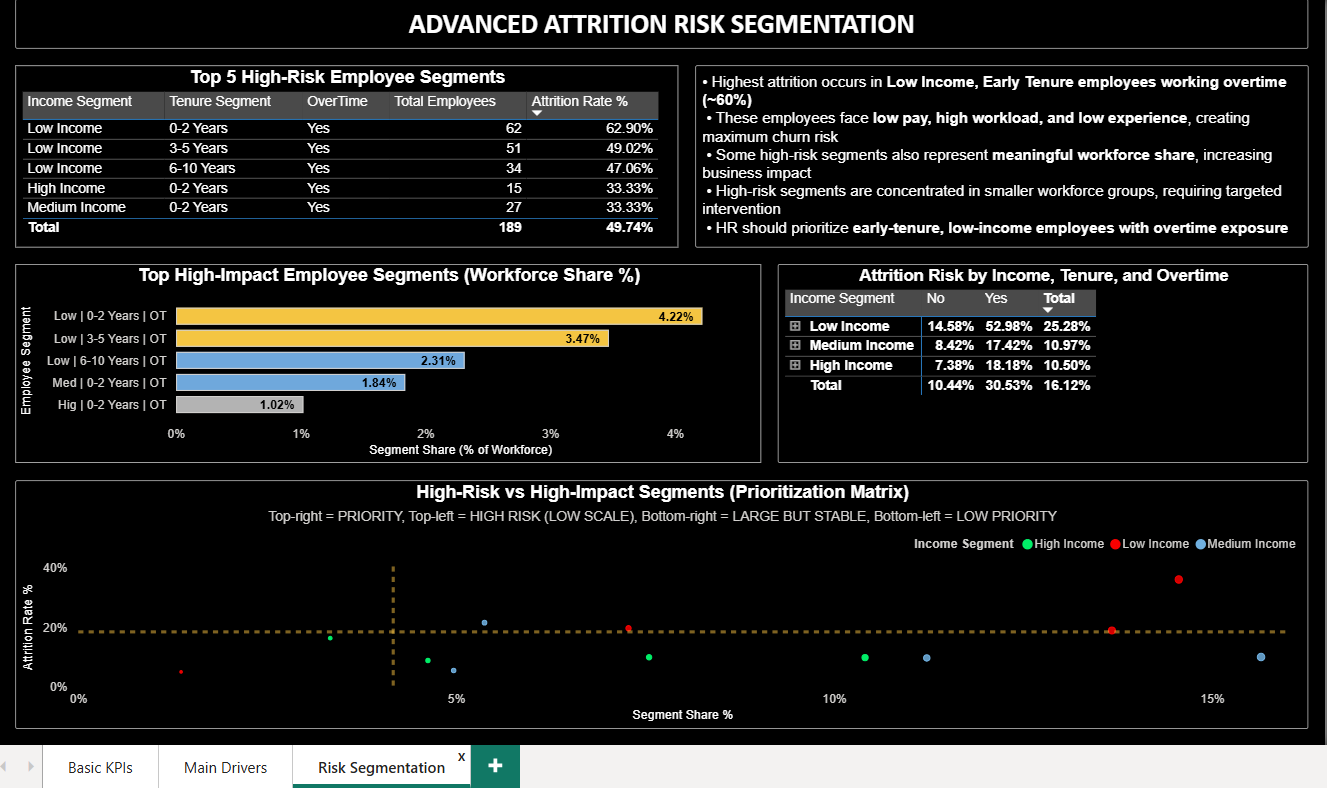

The page's visual inventory and layout, read from the dashboard file:
{"tool":"powerbi","page":{"name":"Risk Segmentation","canvas":[1280,720],"ordinal":2},"visuals":[{"type":"pivotTable","title":"Attrition Risk by Income, Tenure, and Overtime","fields":{"Rows":["HR-Employee-Attrition.Income Segment","HR-Employee-Attrition.Tenure Segment"],"Columns":["HR-Employee-Attrition.OverTime"],"Values":["HR-Employee-Attrition.Attrition Rate %"]},"box":[752,256,512,192],"z":0},{"type":"tableEx","title":"Top 5 High-Risk Employee Segments","fields":{"Values":["HR-Employee-Attrition.Income Segment","HR-Employee-Attrition.Tenure Segment","HR-Employee-Attrition.OverTime","HR-Employee-Attrition.Total Employees","HR-Employee-Attrition.Attrition Rate %"]},"box":[16,64,640,176],"z":1000},{"type":"clusteredBarChart","title":"Top High-Impact Employee Segments (Workforce Share %)","fields":{"Y":["HR-Employee-Attrition.Segment Share %"],"Category":["HR-Employee-Attrition.Segment Short"]},"box":[16,256,720,192],"z":2000},{"type":"textbox","box":[672,64,592,176],"z":3000},{"type":"textbox","box":[16,0,1248,48],"z":4000},{"type":"scatterChart","title":"High-Risk vs High-Impact Segments (Prioritization Matrix)","fields":{"Y":["HR-Employee-Attrition.Attrition Rate %"],"Size":["HR-Employee-Attrition.Total Employees"],"Category":["HR-Employee-Attrition.Segment Short"],"Series":["HR-Employee-Attrition.Income Segment"],"X":["HR-Employee-Attrition.Segment Share %"]},"box":[16,464,1248,240],"z":5000}]}

Visuals, with their boxes on the page's 1280x720 design canvas (x1, y1, x2, y2). These are canvas units, not pixel positions in the 1327x788 screenshot, which may show the page scaled, cropped or inside an application window:
"Attrition Risk by Income, Tenure, and Overtime" pivotTable: l=752, t=256, r=1264, b=448
"Top 5 High-Risk Employee Segments" tableEx: l=16, t=64, r=656, b=240
"Top High-Impact Employee Segments (Workforce Share %)" clusteredBarChart: l=16, t=256, r=736, b=448
textbox: l=672, t=64, r=1264, b=240
textbox: l=16, t=0, r=1264, b=48
"High-Risk vs High-Impact Segments (Prioritization Matrix)" scatterChart: l=16, t=464, r=1264, b=704
